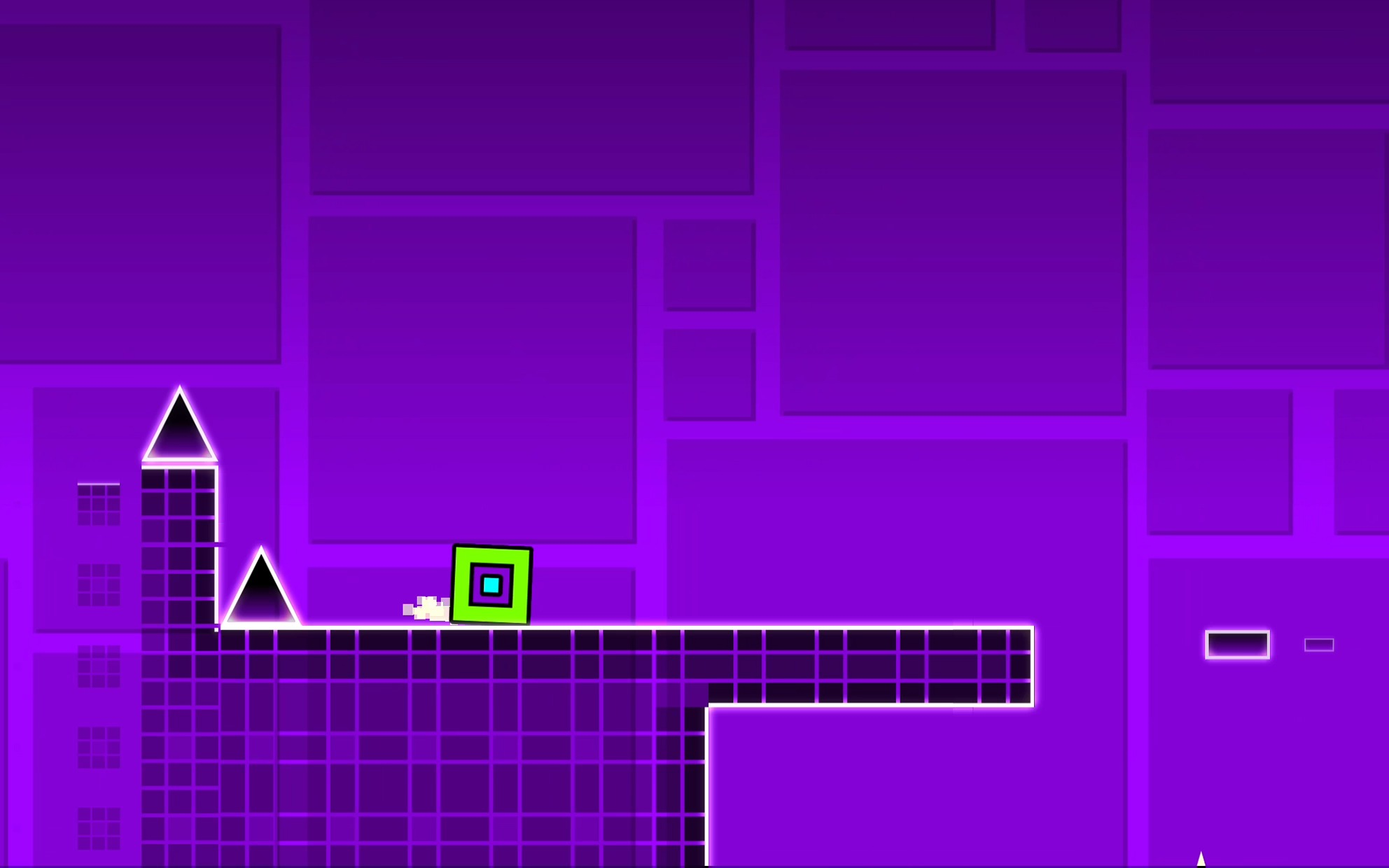Block2: (137, 622, 706, 867), (704, 625, 1032, 704), (139, 469, 218, 706)
Block3: (1204, 628, 1271, 658)
Player: (450, 545, 532, 622)
Spike: (223, 547, 298, 626), (142, 388, 215, 462)
